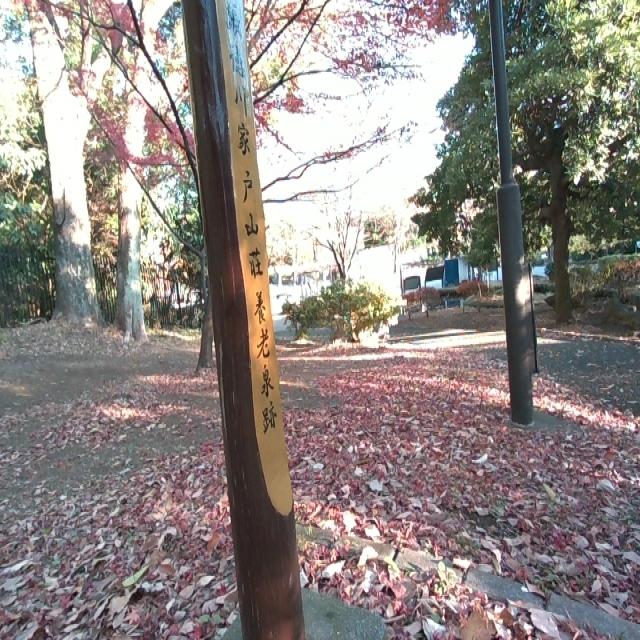artifact: (171, 0, 389, 640), (477, 0, 555, 427)
bush: (283, 273, 393, 347)
tree: (14, 0, 117, 335), (102, 0, 173, 343)
